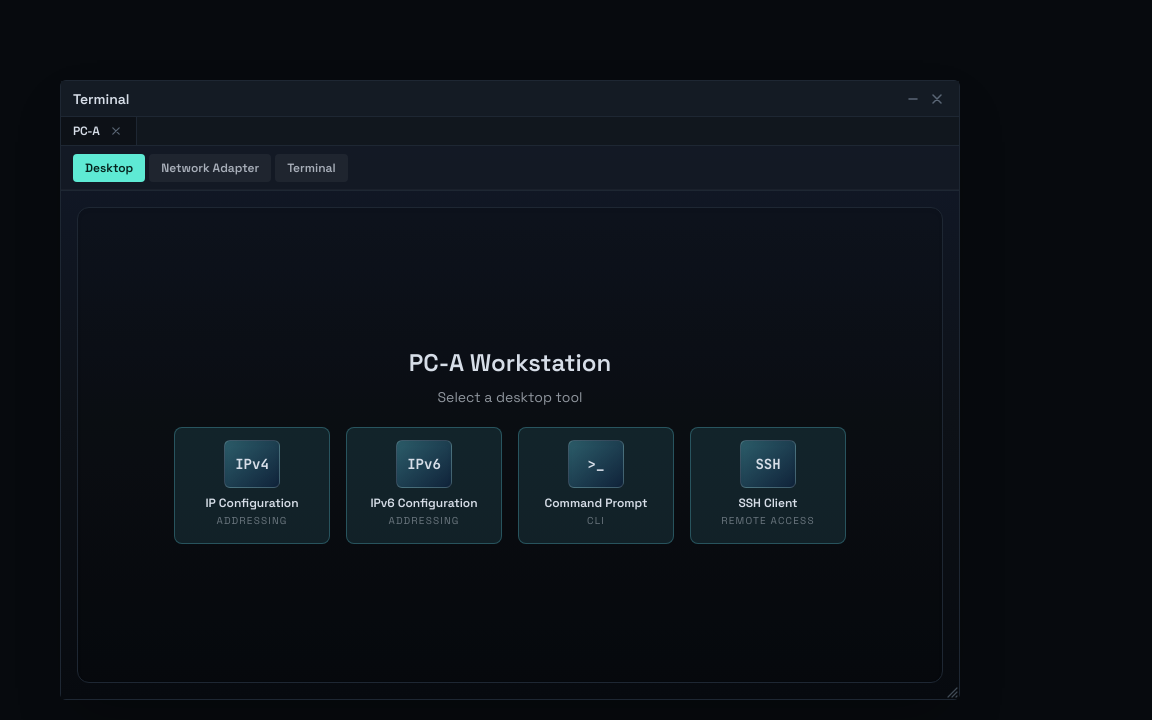
Test: FloatingTerminalPanel › renders a PC workbench with Desktop, Network Adapter, and Terminal tabs for PC devices
The image size is (1152, 720).
Expected: the tab "Desktop" is shown, 73,154 -> 145,182
Expected: the tab "Terminal" is shown, 275,154 -> 348,182
Click the tab "Network Adapter": (210, 168) 149,154 -> 271,182
(page scrolled)
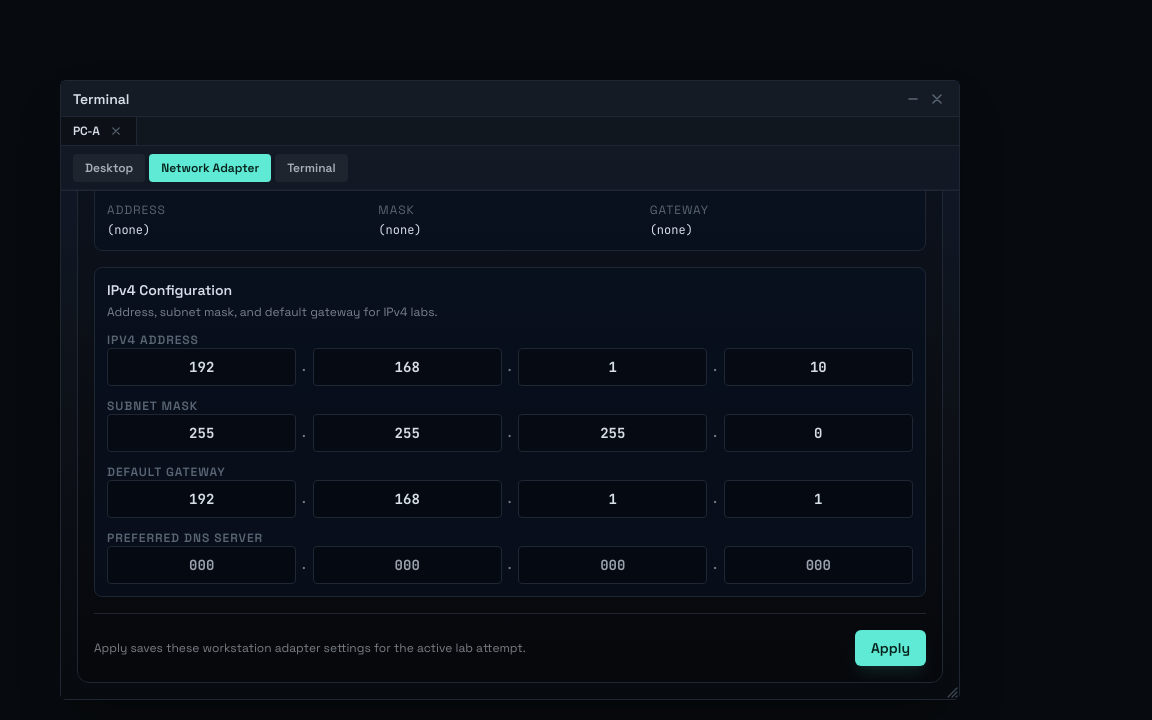
Expected: the field named "IPv4 address octet 1" holds "192", 107,348 -> 296,386
Expected: the field named "IPv4 address octet 4" holds "10", 724,348 -> 913,386
Expected: the field named "Subnet mask octet 1" holds "255", 107,414 -> 296,452
